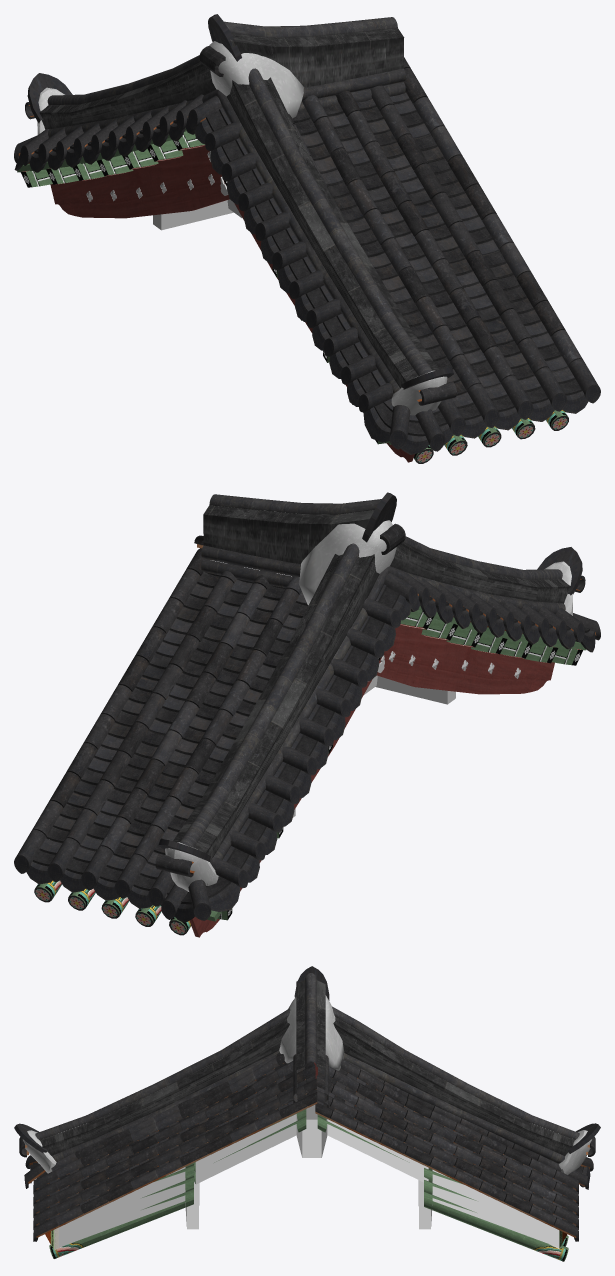
File: SM_Giwa02B_a4.fbx
The picture shows the model from 3 angles, top to bottom: view 1: azimuth 30°, elevation 25°; view 2: azimuth 150°, elevation 25°; view 3: azimuth 270°, elevation 25°; orthographic projection. The views are drawn at different scales.
Parts seen in each view (by area): view 1: SM_Giwa02B_a4; view 2: SM_Giwa02B_a4; view 3: SM_Giwa02B_a4.
Part boxes in pixels (x1,y1,x2,y2): SM_Giwa02B_a4: [14, 14, 600, 463]; SM_Giwa02B_a4: [14, 492, 600, 937]; SM_Giwa02B_a4: [14, 966, 600, 1261].
Size of the model in its own units: 198 by 641 by 283.
